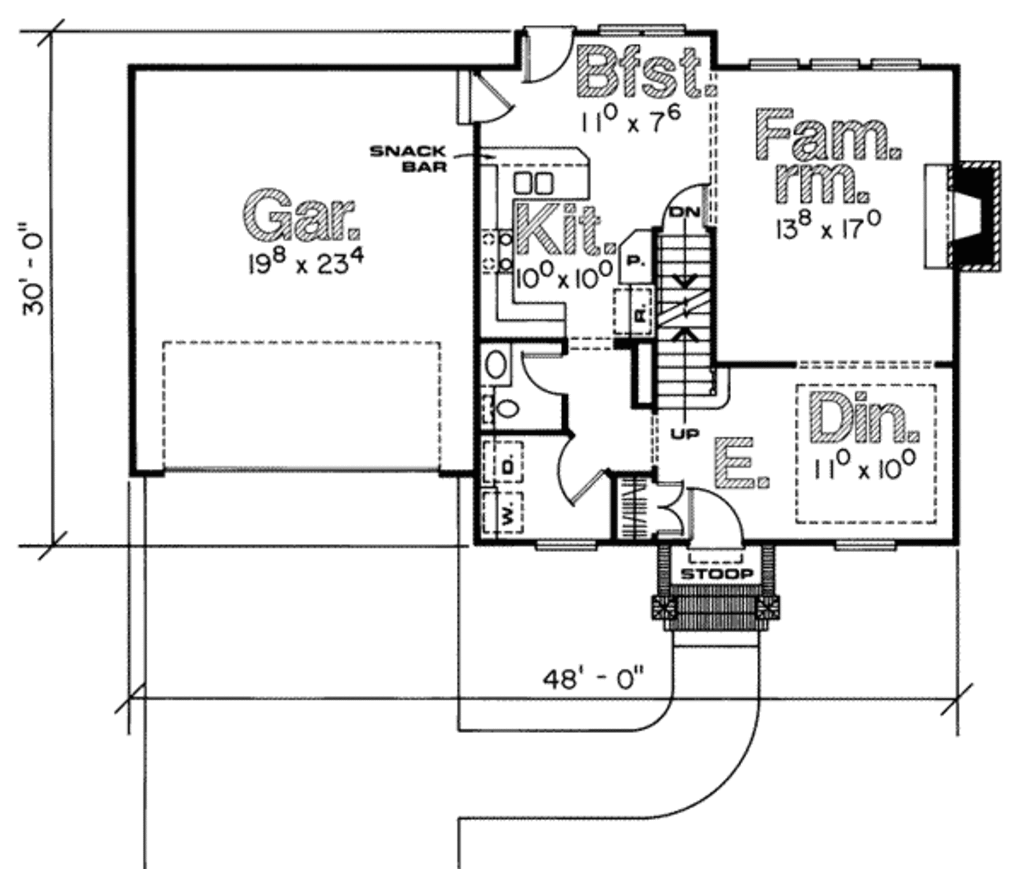door: (450, 63, 518, 129), (685, 483, 747, 553), (550, 432, 603, 508), (520, 28, 577, 84), (517, 343, 568, 403), (653, 181, 713, 227), (650, 478, 686, 537)
large_sink: (474, 389, 521, 430)
small_sink: (478, 340, 513, 393)
stairs: (655, 225, 717, 439)
twin_sink: (504, 162, 563, 200)
window: (743, 56, 922, 76), (592, 19, 688, 38), (827, 536, 900, 558), (527, 538, 604, 556)
